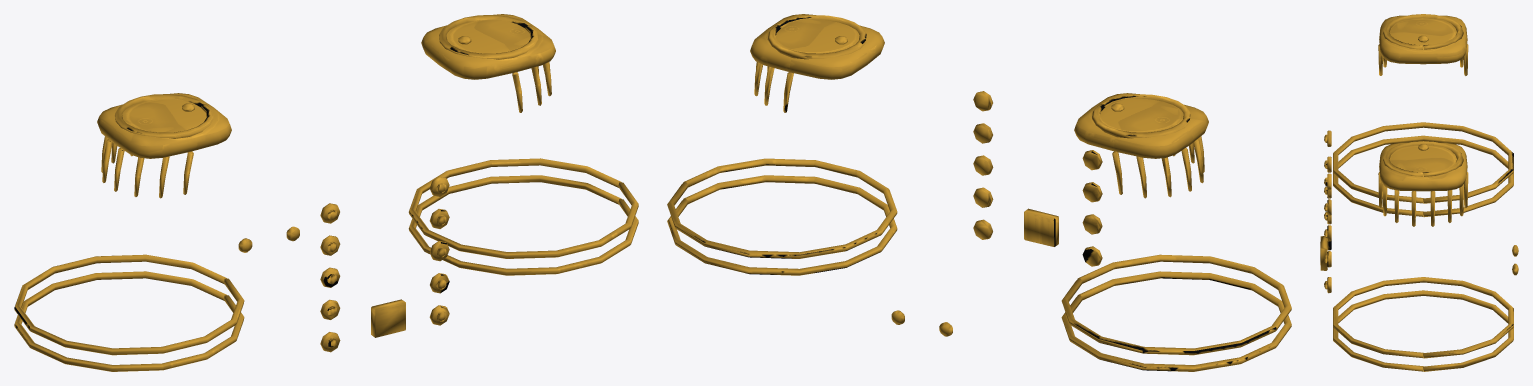
The model's file is Albatros_Abrigo_Oro.fbx.
3 renders of one model, left to right at view 1: azimuth 30°, elevation 25°; view 2: azimuth 150°, elevation 25°; view 3: azimuth 270°, elevation 25°, orthographic. The views are drawn at different scales.
Visible parts, largest first — view 1: Albatros_Abrigo_Oro; view 2: Albatros_Abrigo_Oro; view 3: Albatros_Abrigo_Oro.
Boxes of the visible parts, <box> form: Albatros_Abrigo_Oro: <box>14,14,638,371</box>; Albatros_Abrigo_Oro: <box>667,14,1291,371</box>; Albatros_Abrigo_Oro: <box>1320,14,1518,371</box>.
Size of the model in its own units: 5.33 by 1.93 by 1.92.
